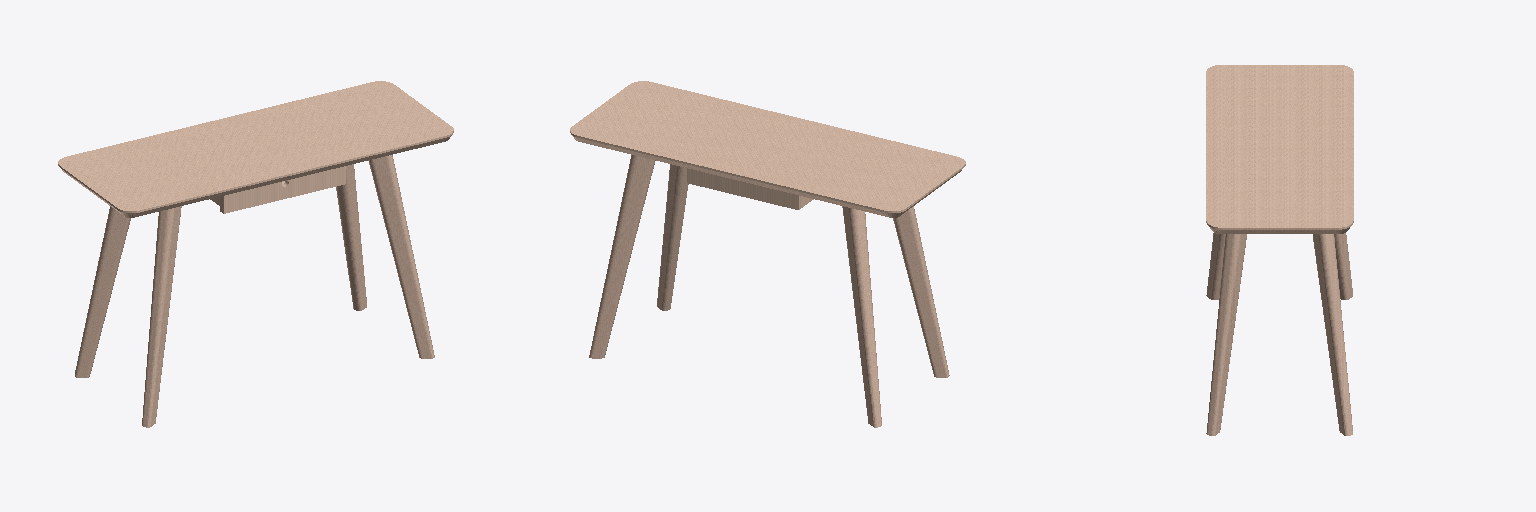
3 views of the same model, side by side, from view 1: azimuth 30°, elevation 25°; view 2: azimuth 150°, elevation 25°; view 3: azimuth 270°, elevation 25° (orthographic).
Visible parts, largest first — view 1: Generic_Models; view 2: Generic_Models; view 3: Generic_Models.
Boxes of the visible parts, box(x1,y1,x2,y2) form: Generic_Models: box(58, 81, 453, 427); Generic_Models: box(570, 81, 965, 427); Generic_Models: box(1206, 65, 1353, 435).
Size of the model in its own units: 1180 by 740 by 450.
Materials: 1 (1 with a texture image).